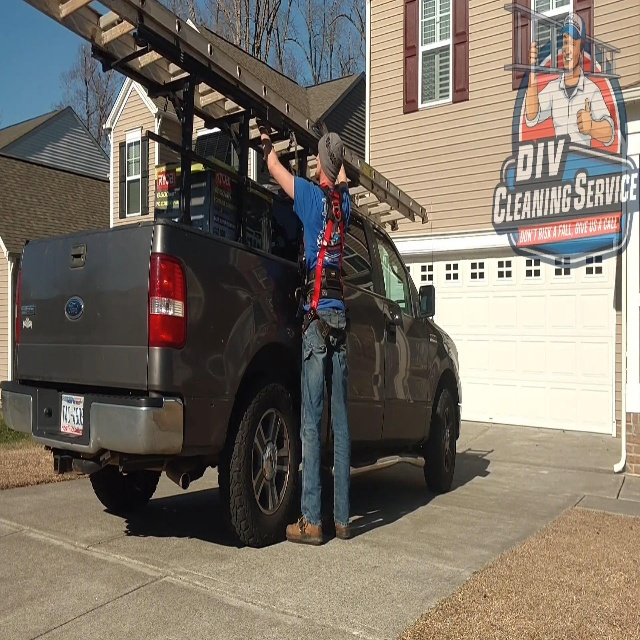Arnes_seguridad: (299, 178, 352, 353)
